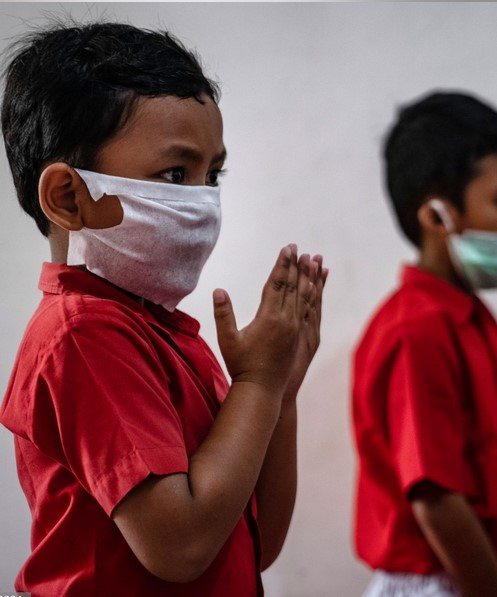face_with_mask: (8, 31, 223, 308), (383, 94, 495, 276)
